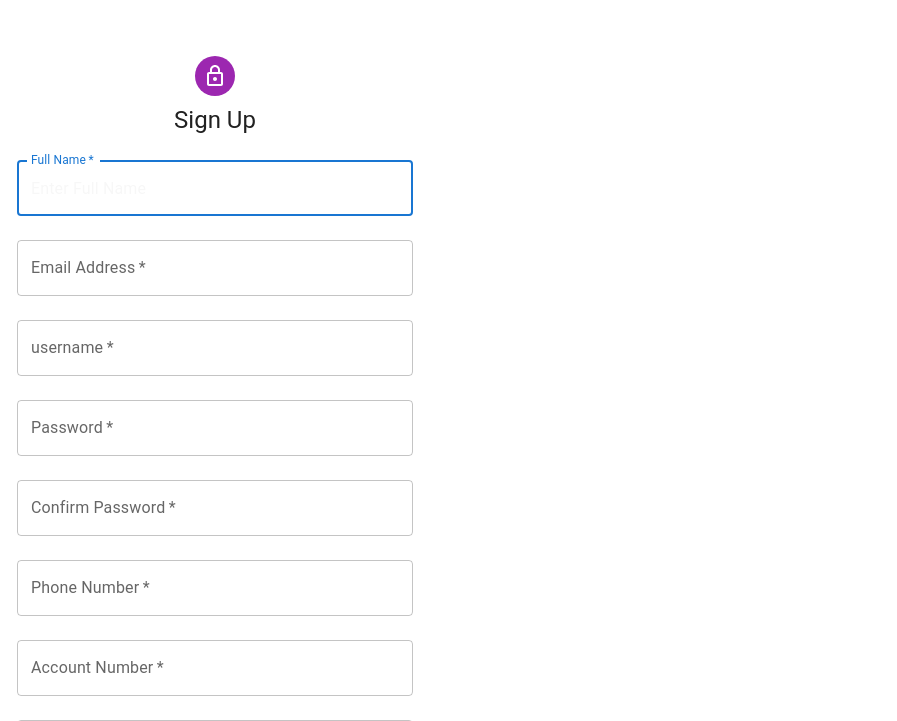
SignUpPage component › displays error message on failed form submission with existing emailId
Type "John Doe" into the field with placeholder "Enter Full Name" at x=215, y=188, box x1=17 y1=160 x2=413 y2=216
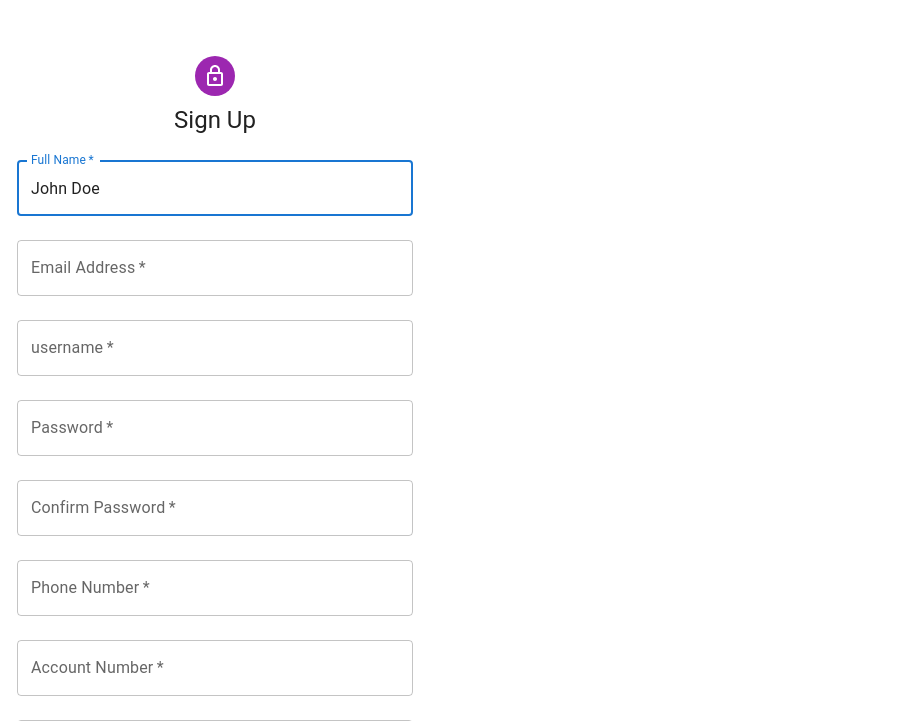
Type "devendra@nextuple.com" into the field with placeholder "Enter Email Address" at x=215, y=268, box x1=17 y1=240 x2=413 y2=296
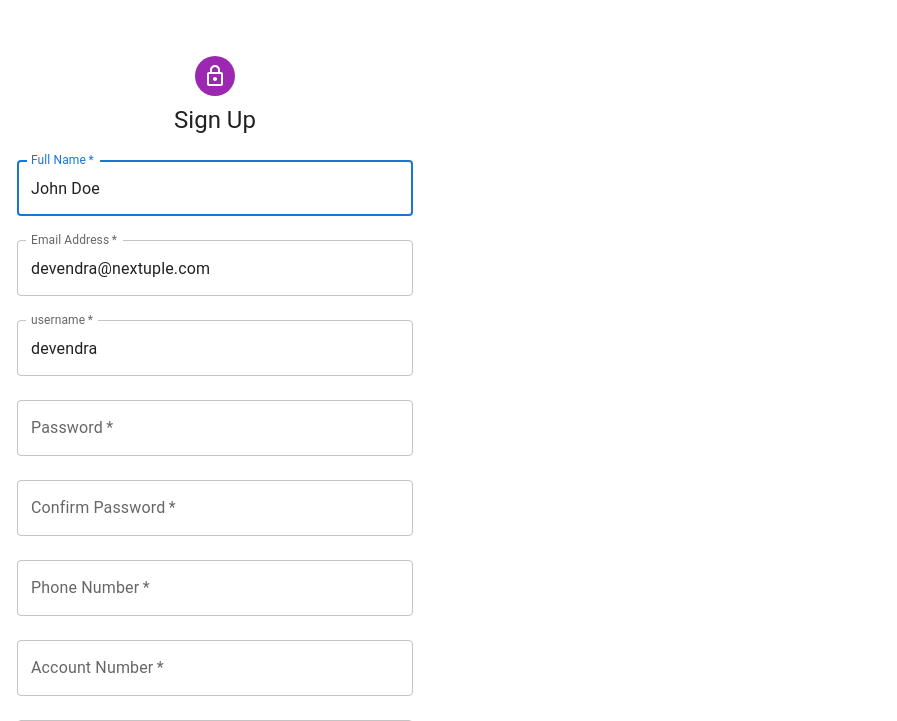
Replace the text in the field with placeholder "Enter Username" with "johndoe" at x=215, y=348, box x1=17 y1=320 x2=413 y2=376
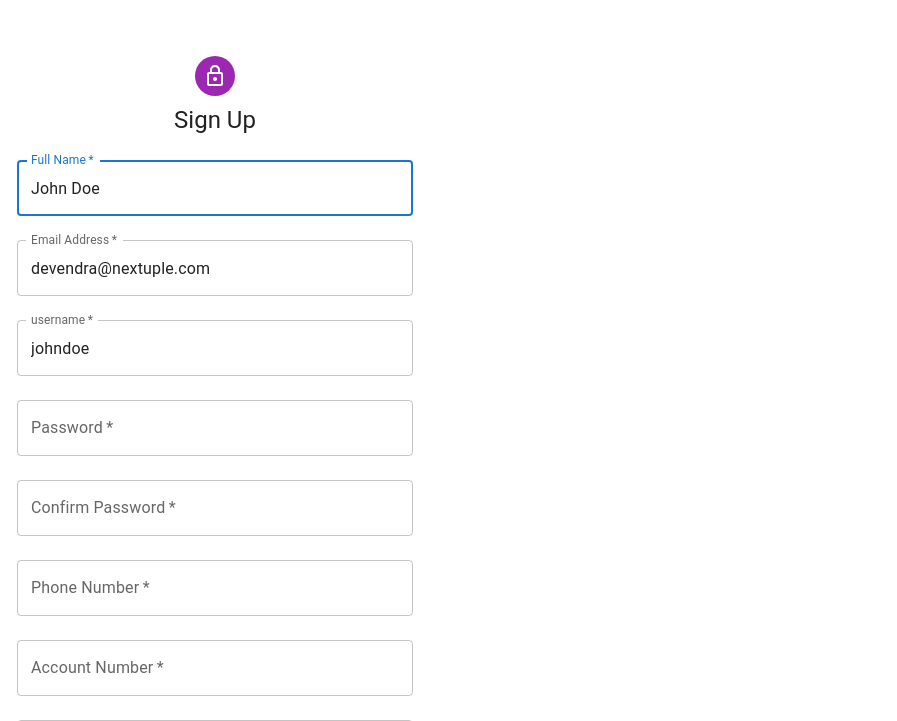
Type "Valid@12345" into the password field with placeholder "Enter Password" at x=215, y=428, box x1=17 y1=400 x2=413 y2=456
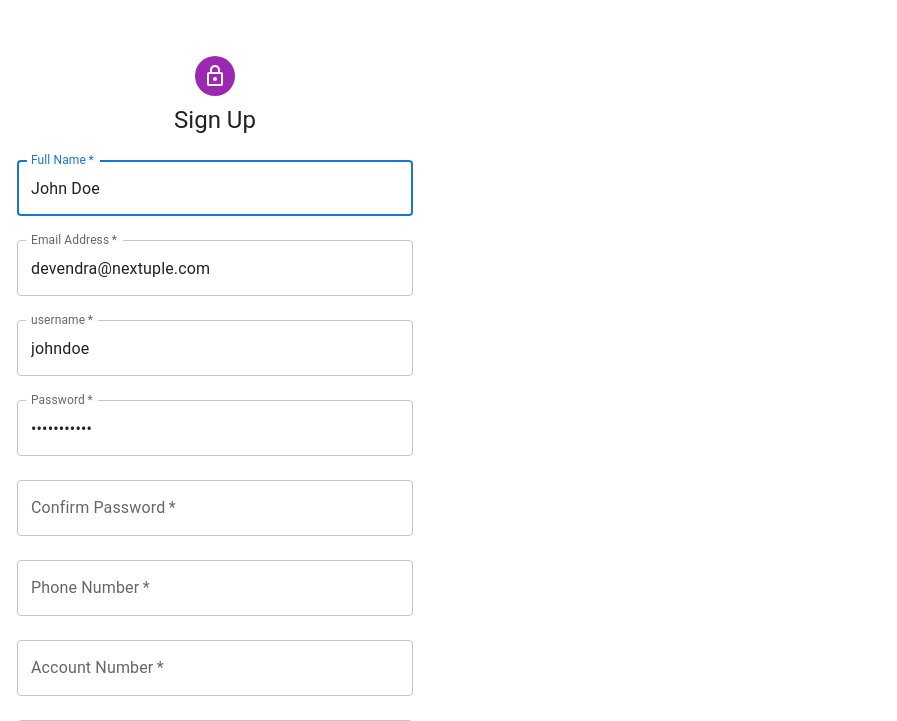
Type "Valid@12345" into the password field with placeholder "Confirm Password" at x=215, y=508, box x1=17 y1=480 x2=413 y2=536
(page scrolled)
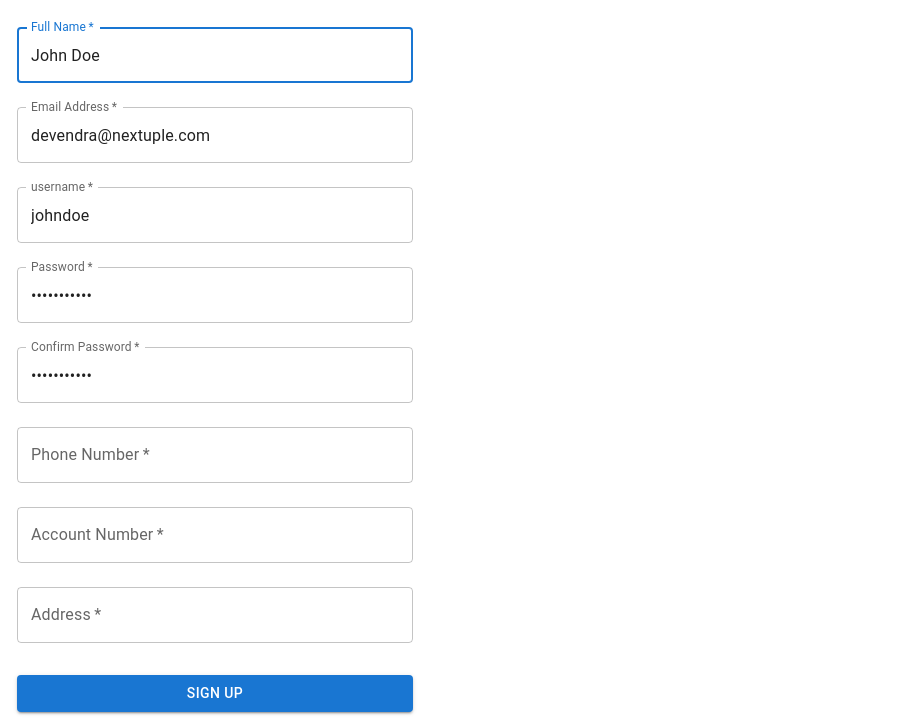
Click the button "Sign Up" at x=215, y=693, box x1=17 y1=675 x2=413 y2=712
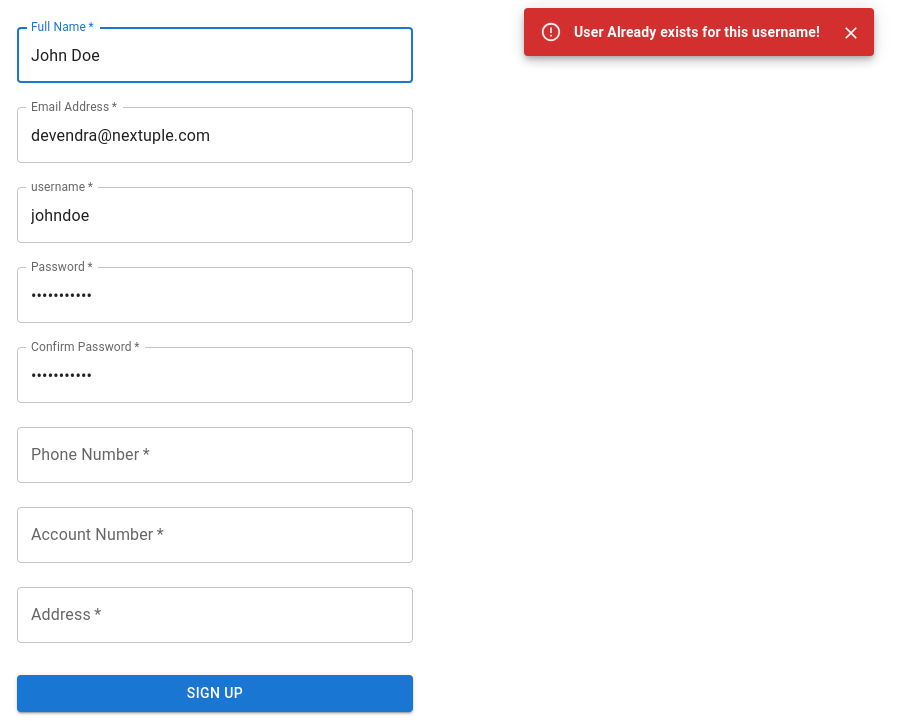
Expected: the text "User Already exists for this username!" is shown, x1=574 y1=24 x2=820 y2=40
